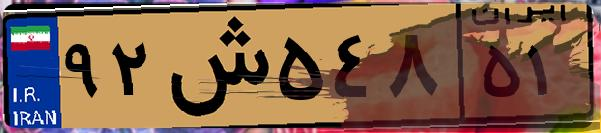1: (525, 38, 570, 115)
2: (110, 28, 158, 98)
4: (330, 28, 385, 110)
5: (270, 28, 330, 110), (475, 38, 525, 113)
8: (385, 28, 445, 110)
9: (57, 26, 110, 100)
ش: (158, 12, 270, 120)
